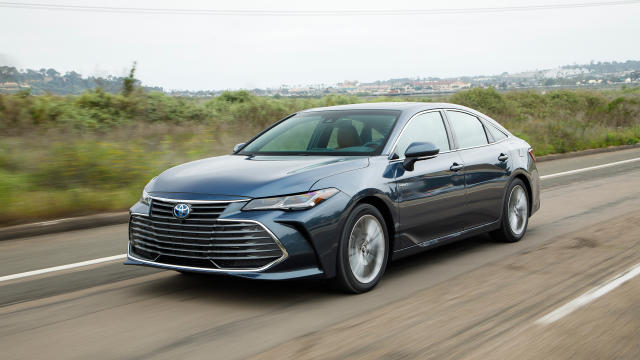car: (119, 98, 544, 298)
